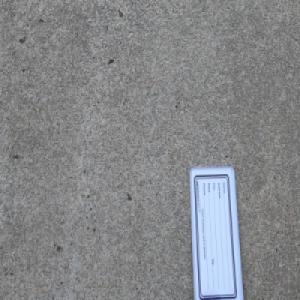LuggageTag: (187, 162, 245, 300)
